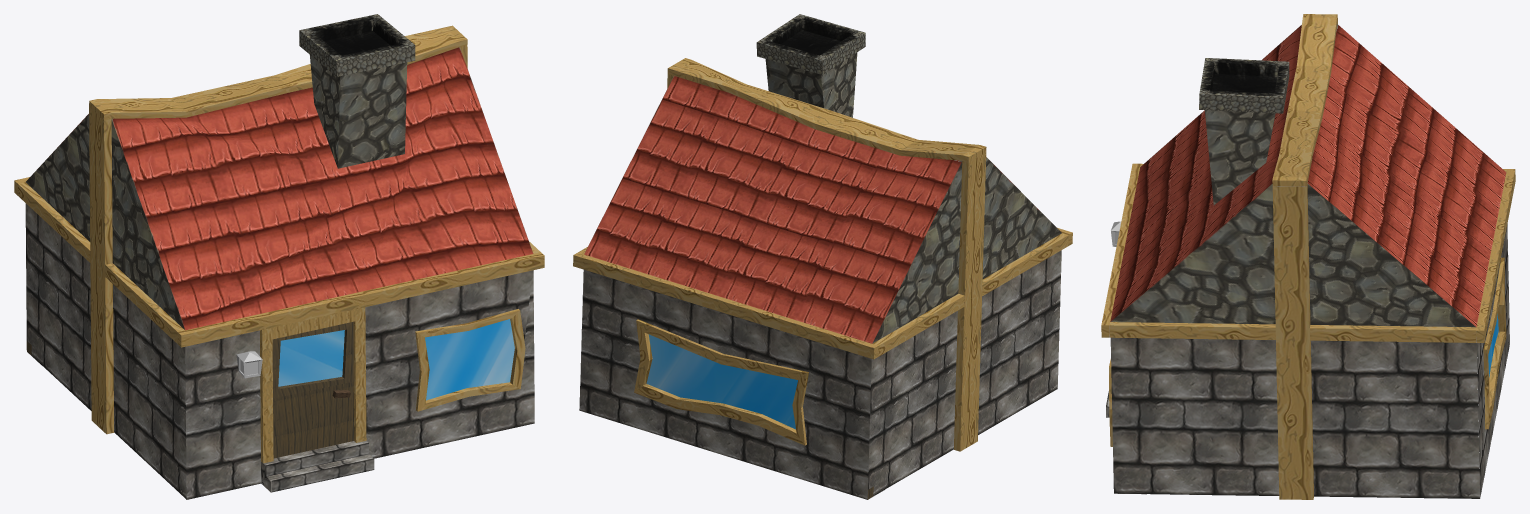
File: huisjeGerwin-1.fbx
3 renders of one model, left to right at view 1: azimuth 30°, elevation 25°; view 2: azimuth 150°, elevation 25°; view 3: azimuth 270°, elevation 25°, orthographic. The views are drawn at different scales.
Parts seen in each view (by area): view 1: House, Schoorsteentop, Lamp1; view 2: House, Schoorsteentop; view 3: House, Schoorsteentop.
Part boxes in pixels (x1,y1,x2,y2): House: [14, 25, 544, 499]; Schoorsteentop: [299, 14, 415, 76]; Lamp1: [236, 351, 262, 378]; House: [573, 52, 1072, 499]; Schoorsteentop: [756, 14, 865, 74]; House: [1101, 14, 1515, 499]; Schoorsteentop: [1199, 58, 1289, 113].
Size of the model in its own units: 413 by 393 by 400.
